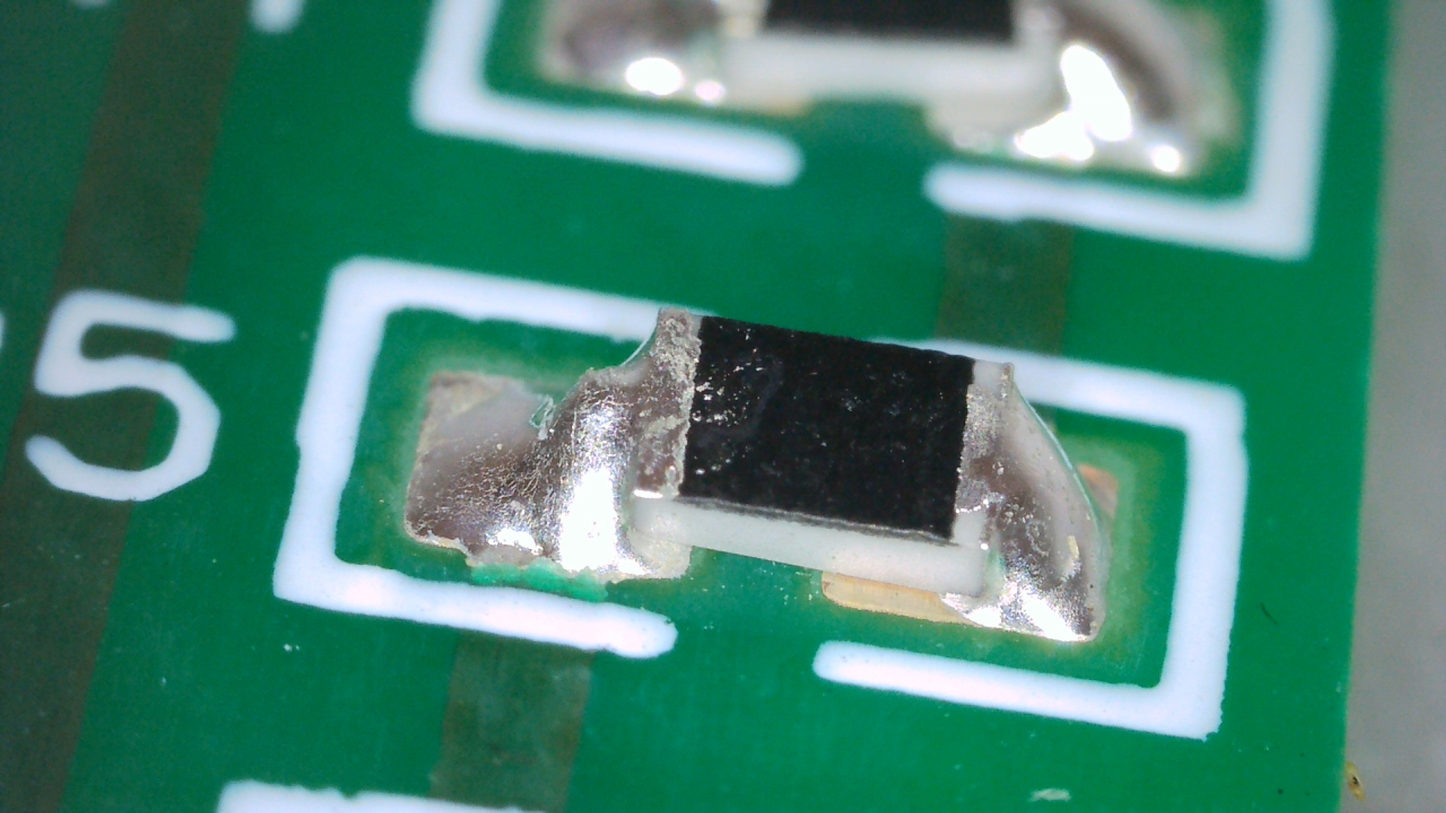NG: (405, 310, 701, 575), (940, 360, 1104, 642), (535, 369, 629, 564)
